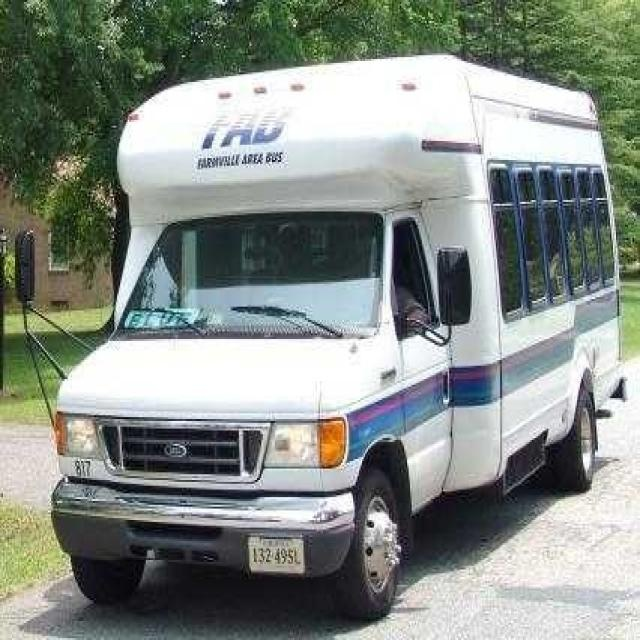Bus: (46, 41, 633, 616)
